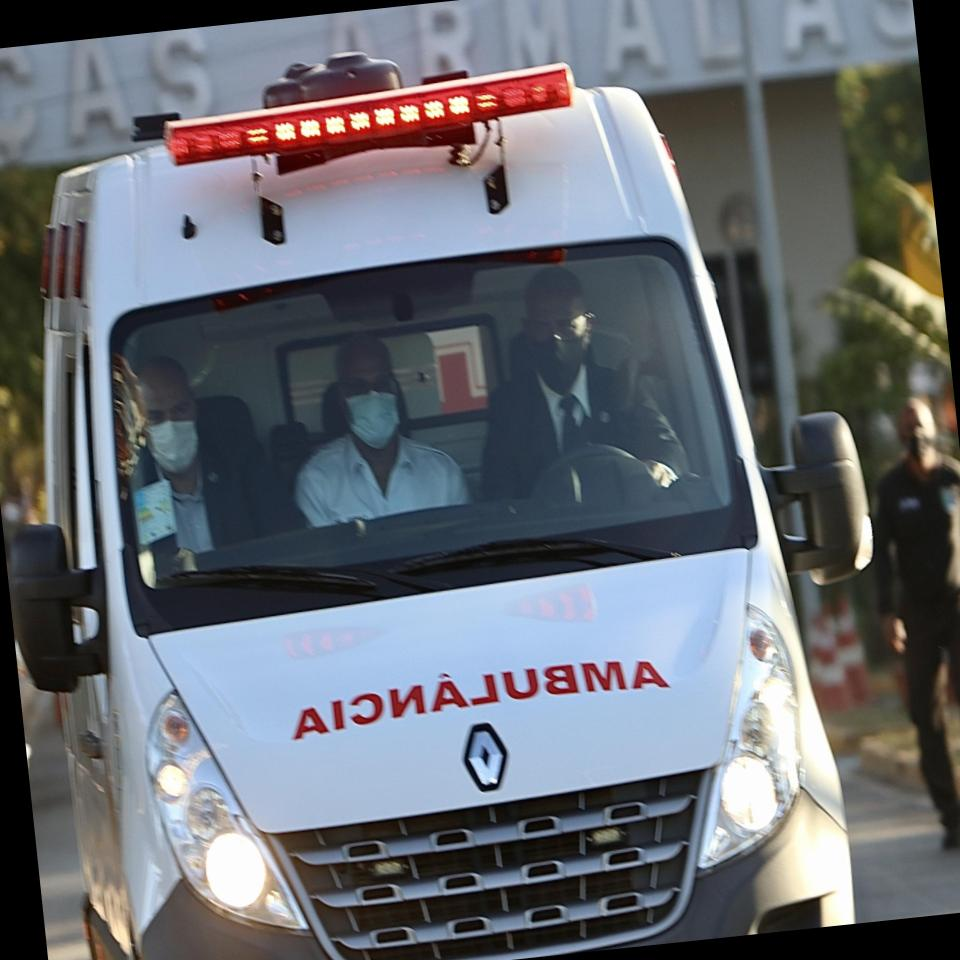bombeiro: (0, 35, 858, 960)
